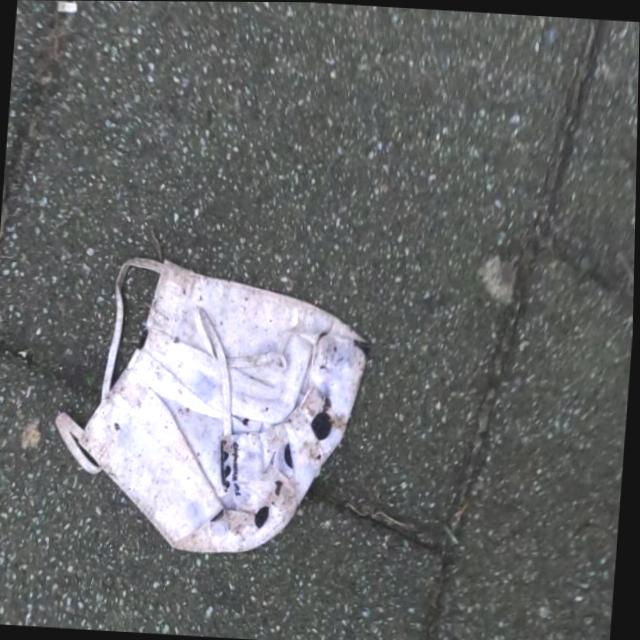Mask: (45, 249, 379, 567)
